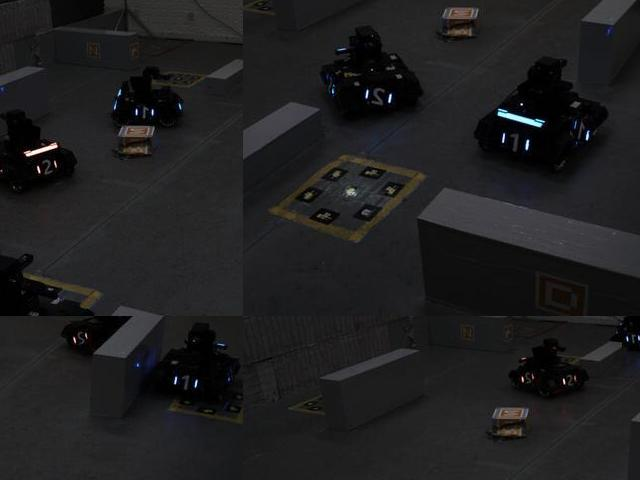armor: (494, 125, 530, 159), (361, 85, 400, 110), (167, 371, 202, 395), (30, 154, 62, 178), (553, 368, 584, 391), (131, 100, 160, 124), (70, 324, 93, 349), (571, 119, 595, 142), (519, 367, 538, 390), (622, 331, 639, 349)
